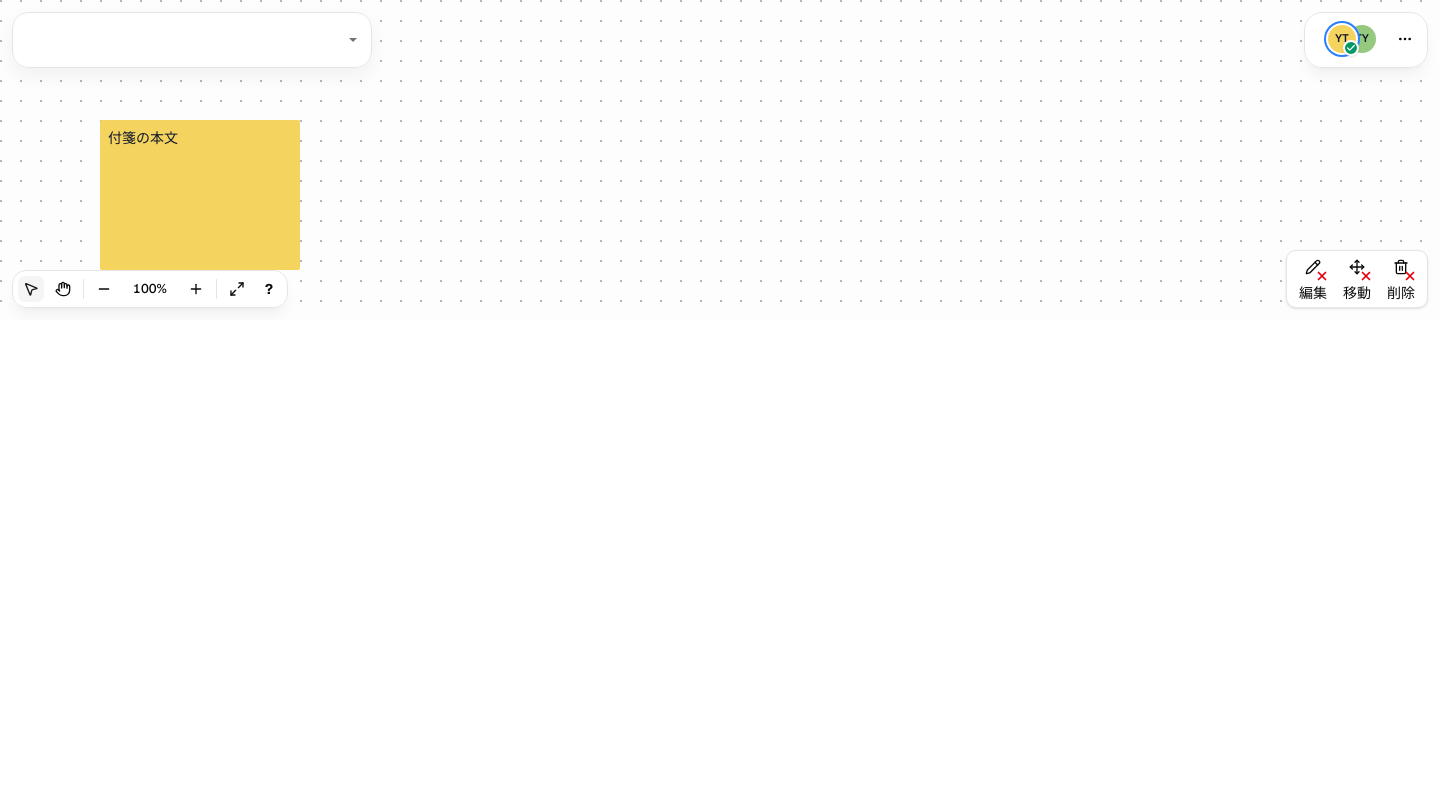
Test: 決定フェーズのルームメニュー › フェーズ1の決定ステップでは一括整理の操作を表示しない
The image size is (1440, 810).
Click the button named "ルームメニューを開く": (1405, 39) [1389,19,1421,59]
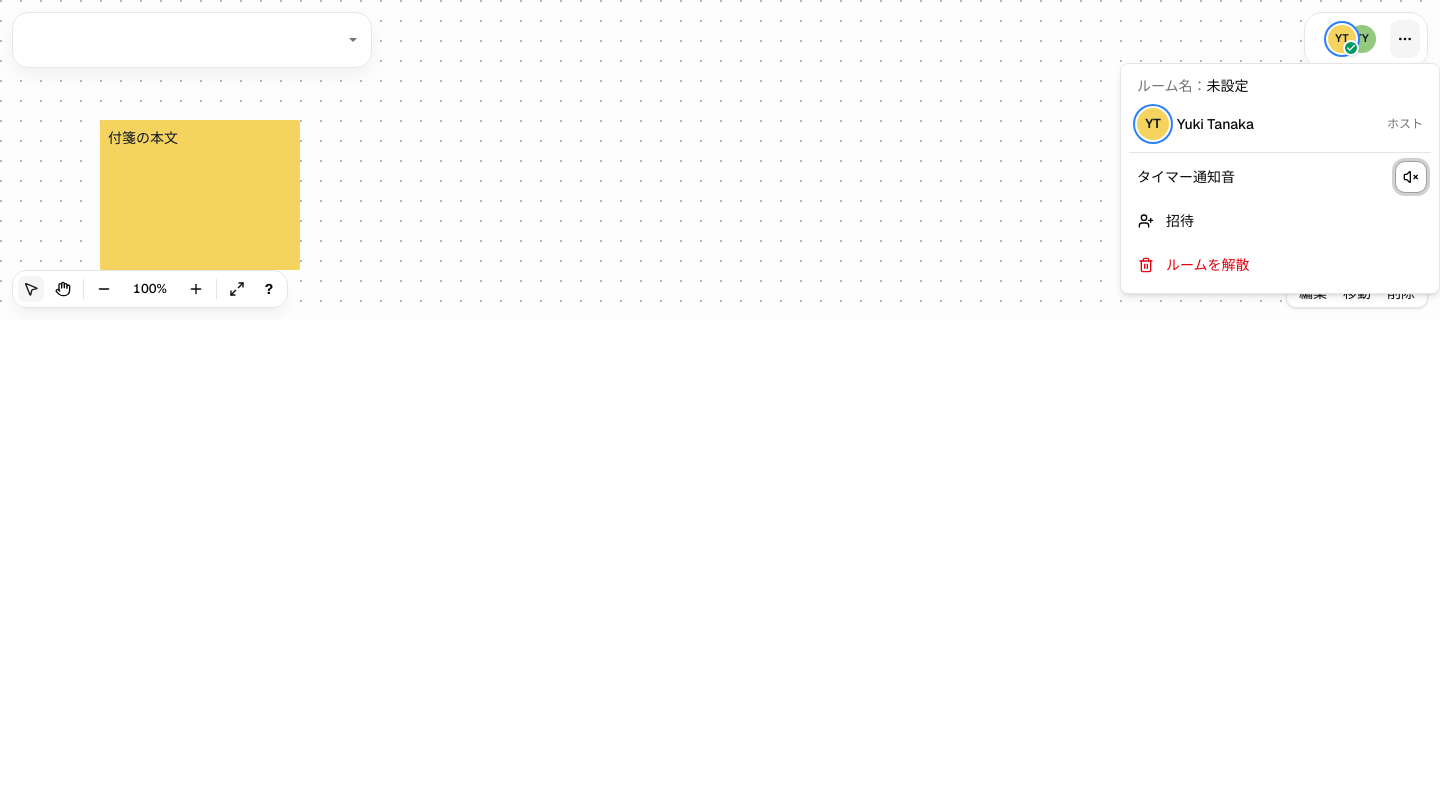
Result: the button with test id "leave-button" is shown at [1129,245,1431,285]
